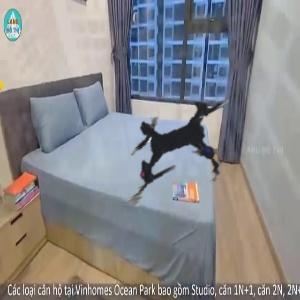drone: (72, 43, 283, 254)
